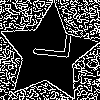L: (23, 28, 71, 61)
